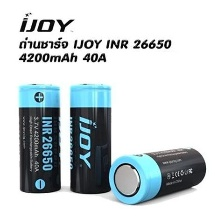battery: (108, 141, 210, 206), (66, 77, 113, 197), (16, 80, 62, 195)
